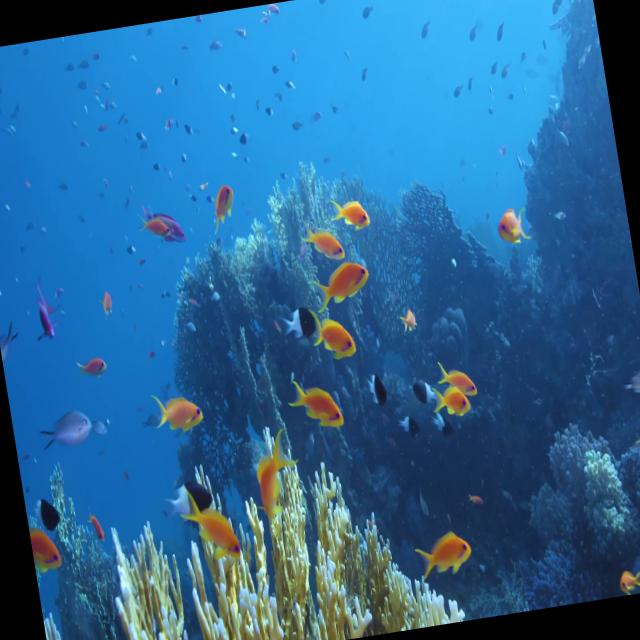fish: (181, 485, 242, 565), (287, 376, 345, 433), (311, 262, 374, 312), (415, 529, 473, 579), (258, 448, 296, 524), (38, 404, 96, 450), (164, 476, 215, 520), (149, 390, 204, 430), (302, 221, 348, 268), (435, 359, 480, 405), (282, 302, 321, 344), (434, 384, 474, 422), (334, 191, 371, 230), (497, 206, 529, 245)
